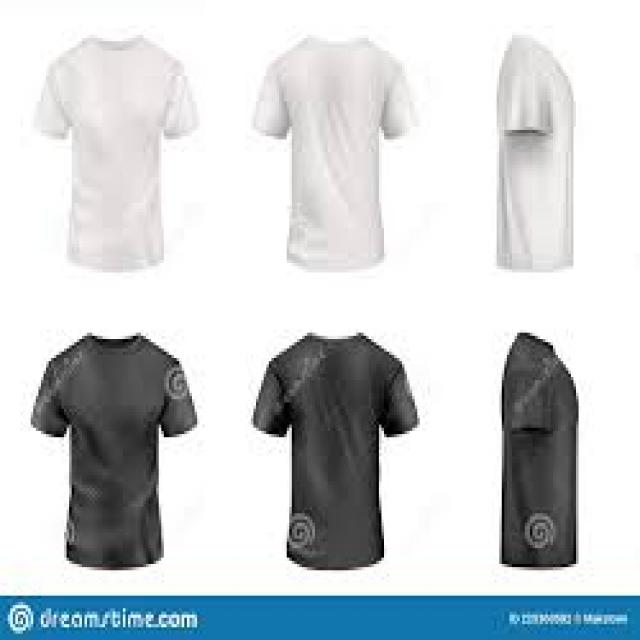Shirt: (241, 32, 428, 280), (21, 34, 206, 282), (28, 320, 203, 574), (245, 322, 419, 572), (470, 26, 593, 284), (480, 319, 602, 576)
